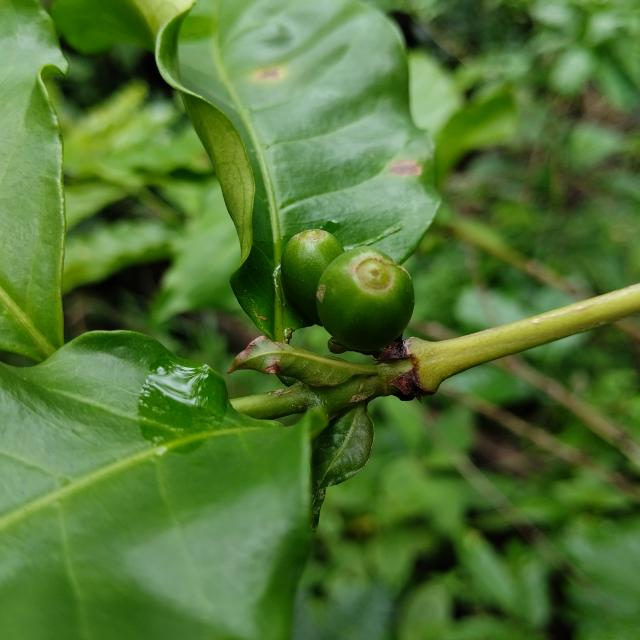green: (316, 246, 415, 351), (280, 229, 345, 325)
